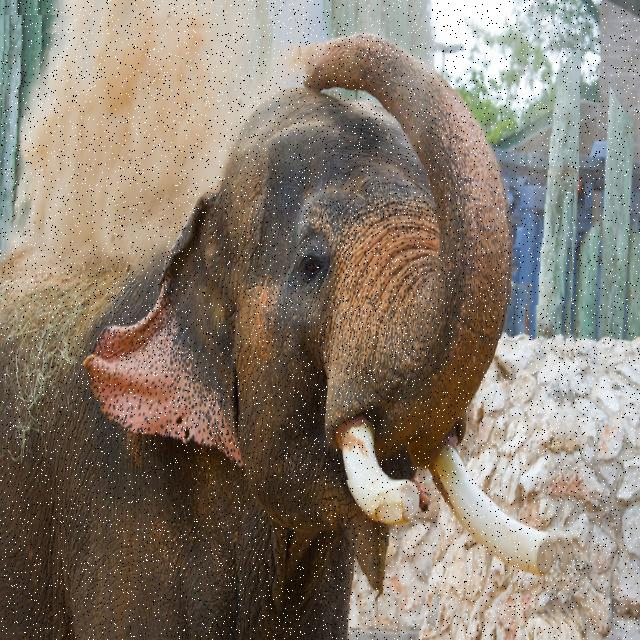elephant: (0, 17, 579, 640)
